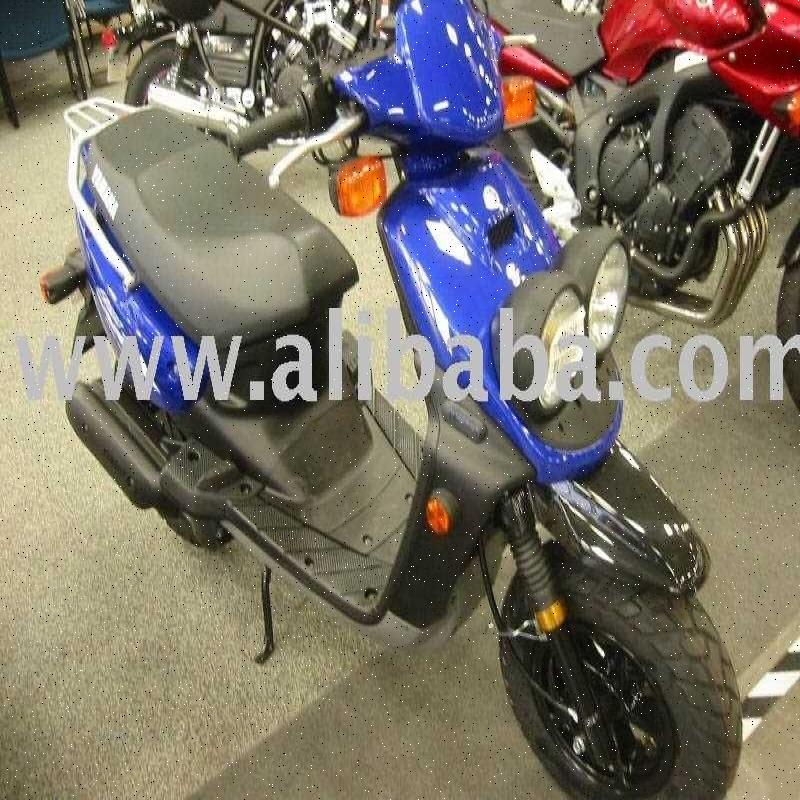bike: (52, 0, 764, 799)
